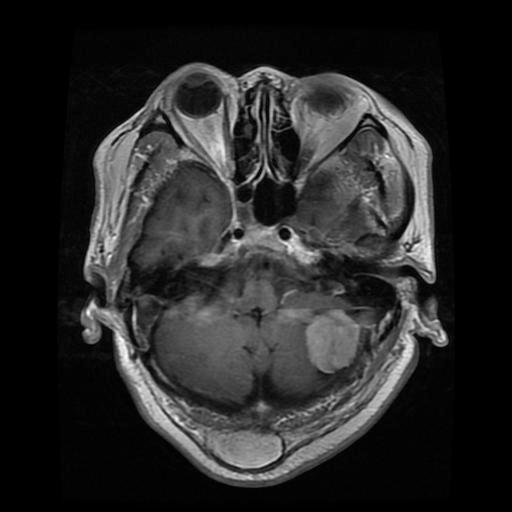Tumour-Meningioma: (293, 311, 368, 380)
